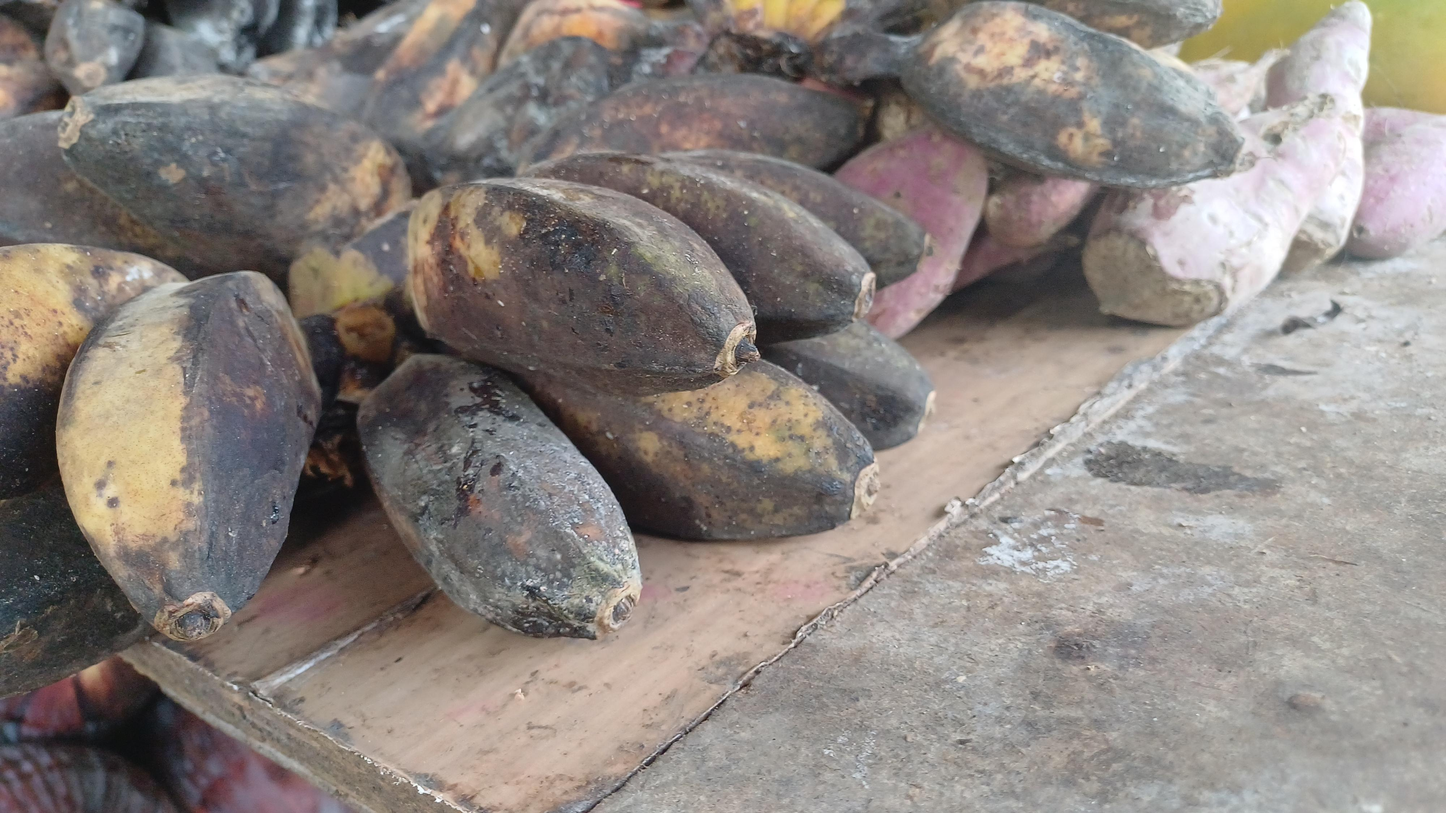overripe: (358, 151, 932, 637), (0, 244, 321, 694), (0, 75, 412, 285), (894, 0, 1244, 188), (0, 0, 221, 118)
